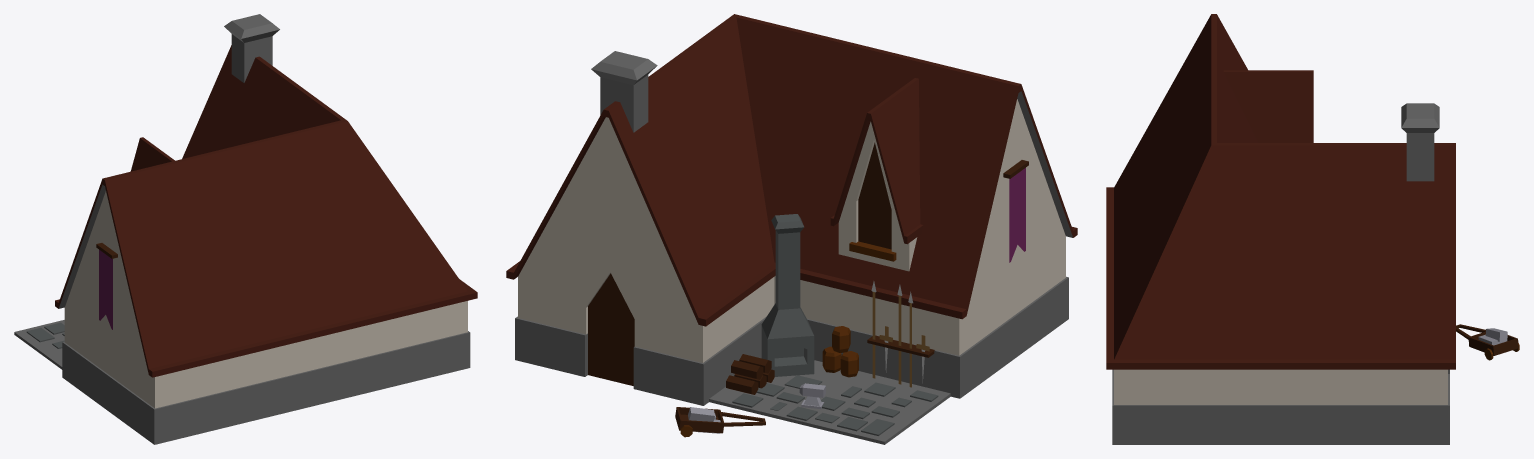
The model's file is Blacksmithv2.fbx.
The picture shows the model from 3 angles, left to right: view 1: azimuth 30°, elevation 25°; view 2: azimuth 150°, elevation 25°; view 3: azimuth 270°, elevation 25°; orthographic projection. The views are drawn at different scales.
Parts seen in each view (by area): view 1: Plane.038; view 2: Plane.038; view 3: Plane.038.
Part boxes in pixels (x1,y1,x2,y2): Plane.038: (14,14,477,444); Plane.038: (506,14,1077,444); Plane.038: (1106,14,1519,444).
Bounding box in the file's own units: 208 × 161 × 207.
